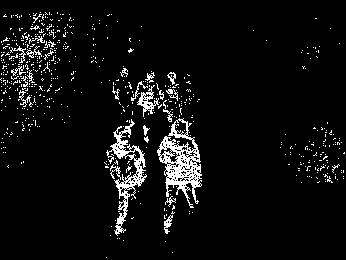person: (158, 118, 205, 238), (107, 125, 148, 241), (133, 69, 163, 145), (164, 67, 183, 128), (113, 67, 133, 124)
